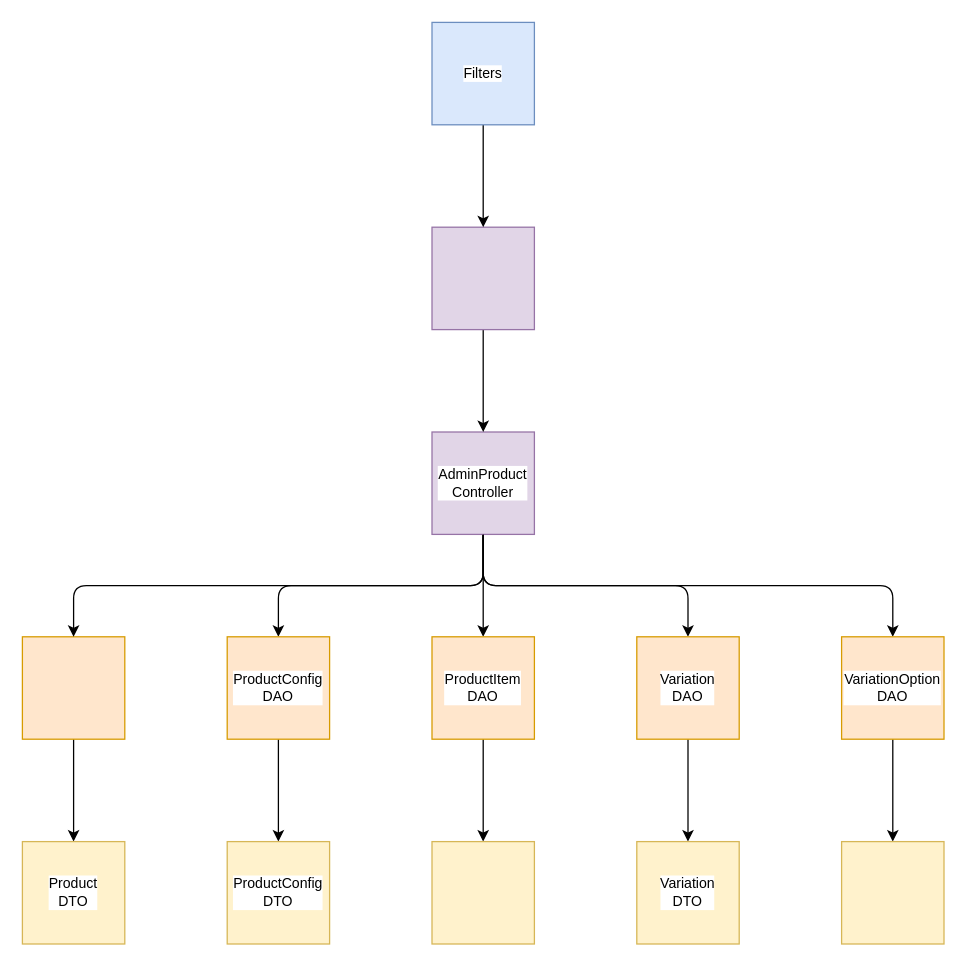
Image size: 966x966. Some labels were removed from this diagram. Each missing label, with the centre of its shape:
Main Controller: pixel 482 278
Product DAO: pixel 73 687
ProductItem DTO: pixel 482 892
VariationOption DTO: pixel 892 892
